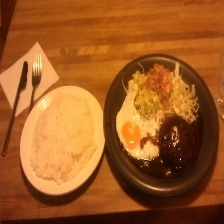rice: (28, 95, 101, 184)
